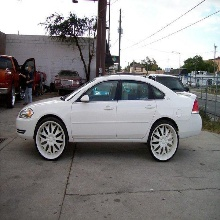no damage: (15, 73, 203, 163)
